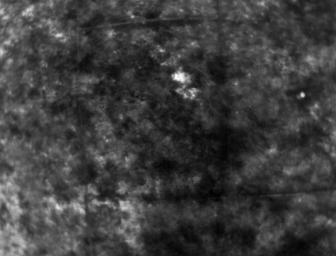landmine: (172, 70, 188, 84)
